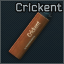Crickent lighter: (0, 0, 64, 64)
